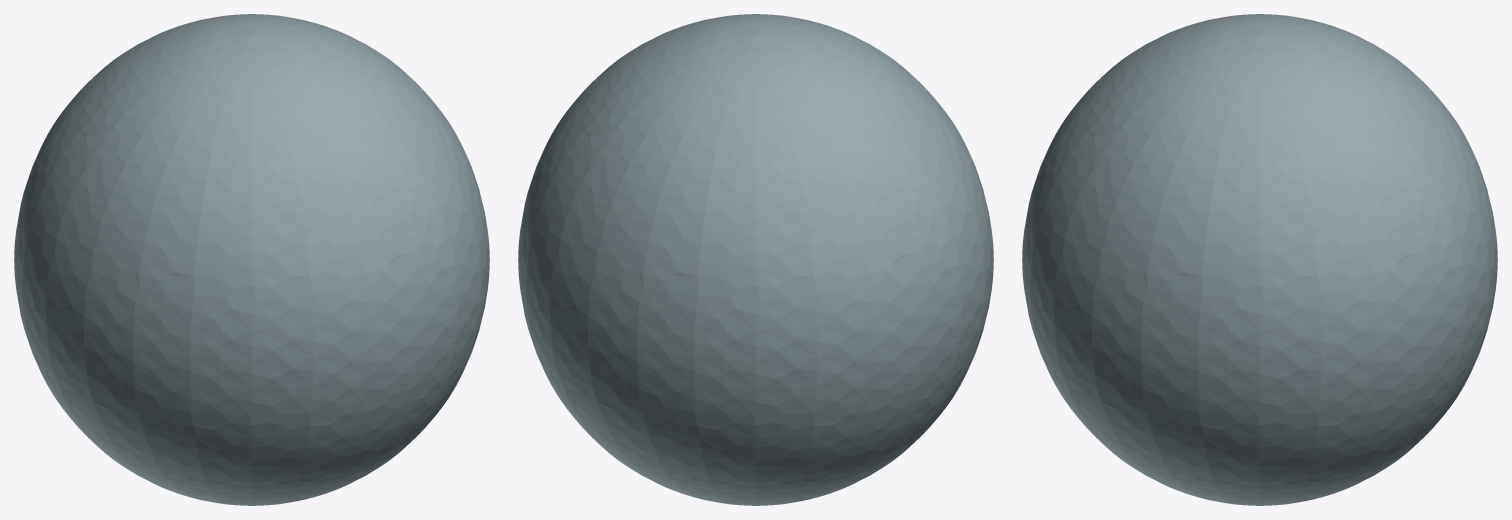
The picture shows the model from 3 angles, left to right: view 1: azimuth 30°, elevation 25°; view 2: azimuth 150°, elevation 25°; view 3: azimuth 270°, elevation 25°; orthographic projection.
Parts seen in each view (by area): view 1: pSphere1; view 2: pSphere1; view 3: pSphere1.
Part boxes in pixels (<box>): pSphere1: <box>14,14,489,505</box>; pSphere1: <box>518,14,993,505</box>; pSphere1: <box>1022,14,1497,505</box>.
Size of the model in its own units: 1.9 by 1.99 by 1.9.
